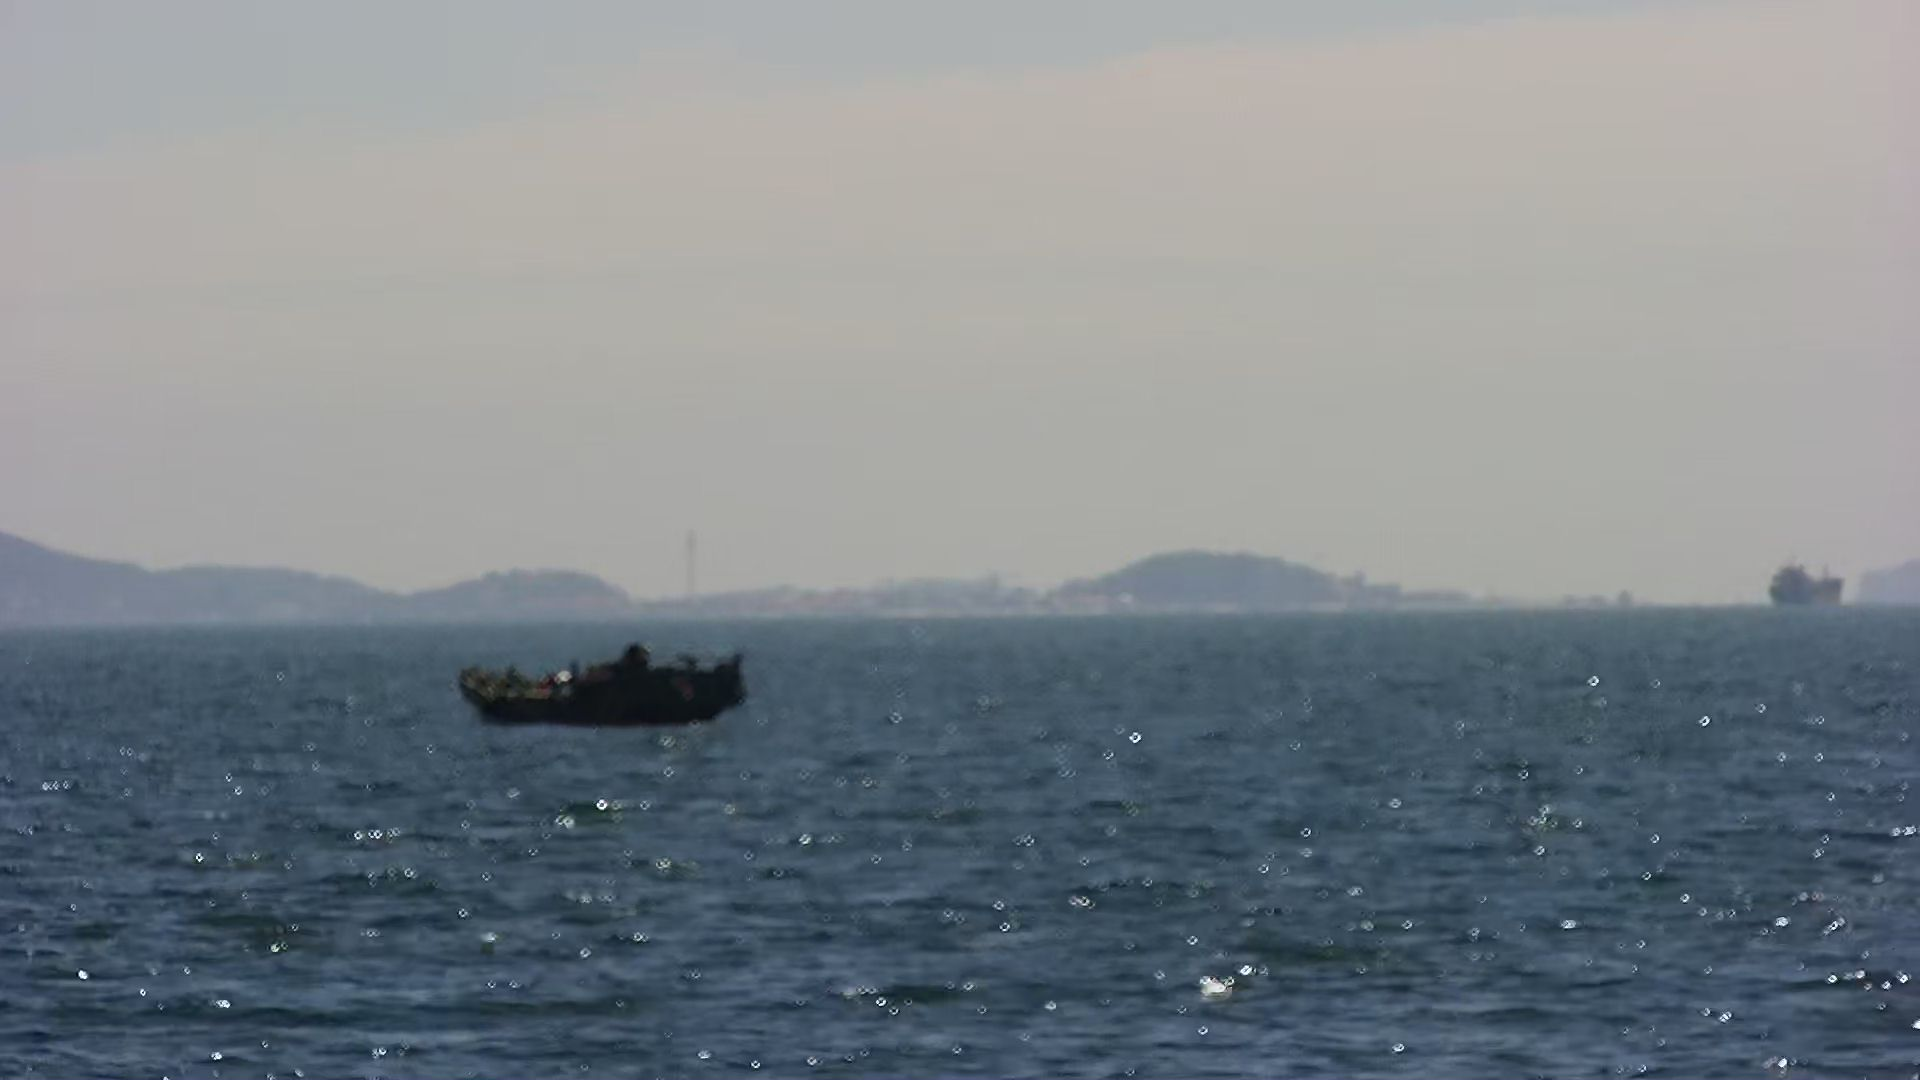boat: (460, 636, 748, 731)
ship: (1764, 564, 1851, 609)
